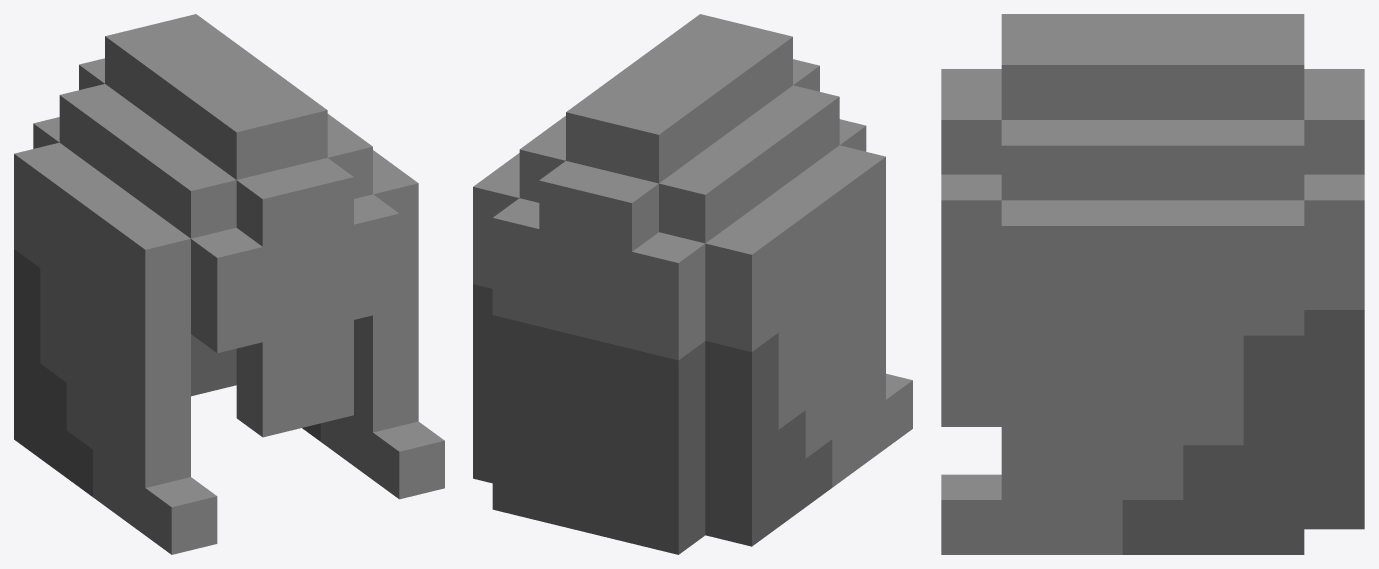
File: character-237-helm_hvy_2a_du.obj
3 renders of one model, left to right at view 1: azimuth 30°, elevation 25°; view 2: azimuth 150°, elevation 25°; view 3: azimuth 270°, elevation 25°, orthographic. The views are drawn at different scales.
Parts seen in each view (by area): view 1: helm_hvy_2a_du; view 2: helm_hvy_2a_du; view 3: helm_hvy_2a_du.
Part boxes in pixels (x1=…): helm_hvy_2a_du: x1=14, y1=14, x2=444, y2=554; helm_hvy_2a_du: x1=473, y1=14, x2=912, y2=554; helm_hvy_2a_du: x1=941, y1=14, x2=1364, y2=554.
Bounding box in the file's own units: 0.6 × 0.8 × 0.7.
1 material, 1 textured.
